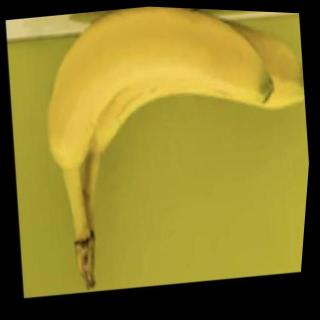banana: (30, 1, 290, 176)
